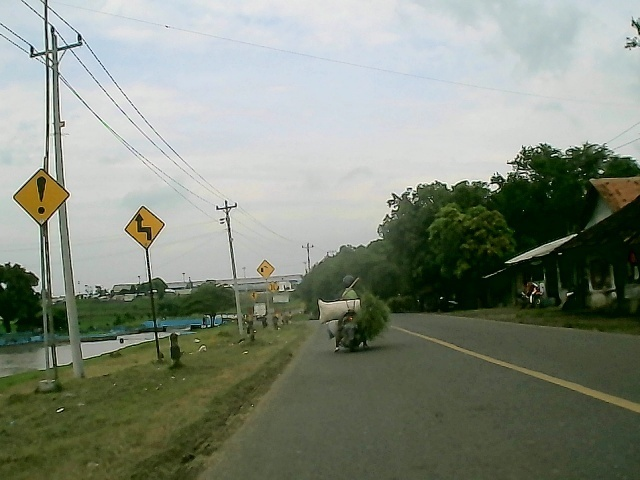Hati-hati: (11, 166, 72, 231)
Peringatan tepi air: (254, 259, 274, 279)
Tikungan garda pertama kiri: (122, 204, 167, 251)
